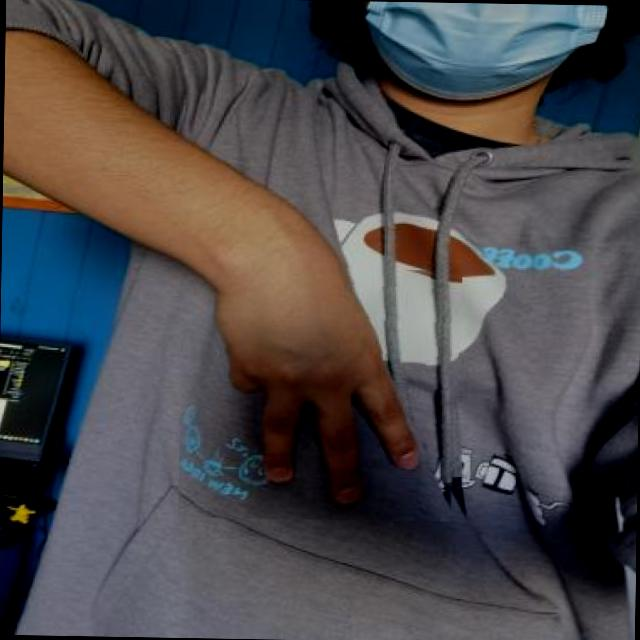M: (178, 260, 462, 522)
